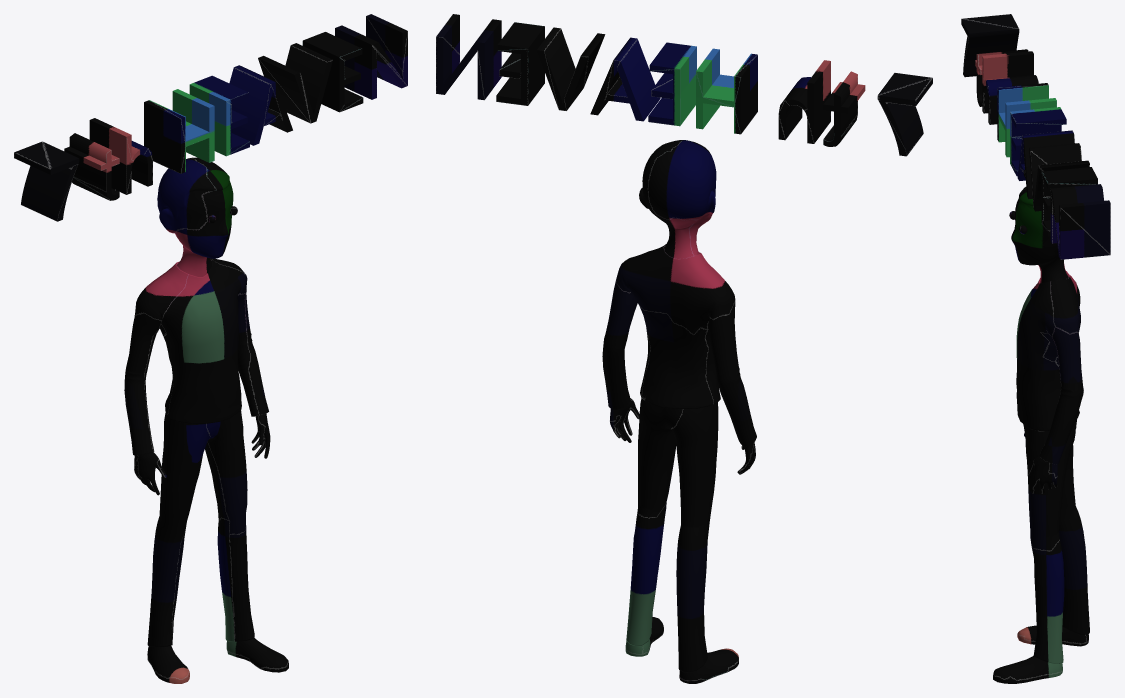
The model's file is sosmall.glb.
3 renders of one model, left to right at view 1: azimuth 30°, elevation 25°; view 2: azimuth 150°, elevation 25°; view 3: azimuth 270°, elevation 25°, orthographic. The views are drawn at different scales.
Parts seen in each view (by area): view 1: mesh_id26, mesh_id466; view 2: mesh_id26, mesh_id466; view 3: mesh_id26, mesh_id466.
Part boxes in pixels (<box>): mesh_id26: <box>124,157,288,683</box>; mesh_id466: <box>14,14,407,221</box>; mesh_id26: <box>602,140,756,683</box>; mesh_id466: <box>436,14,932,156</box>; mesh_id26: <box>993,187,1089,683</box>; mesh_id466: <box>961,14,1110,259</box>.
Size of the model in its own units: 0.00714 by 0.0094 by 0.00233.
4 materials, 4 textured.
